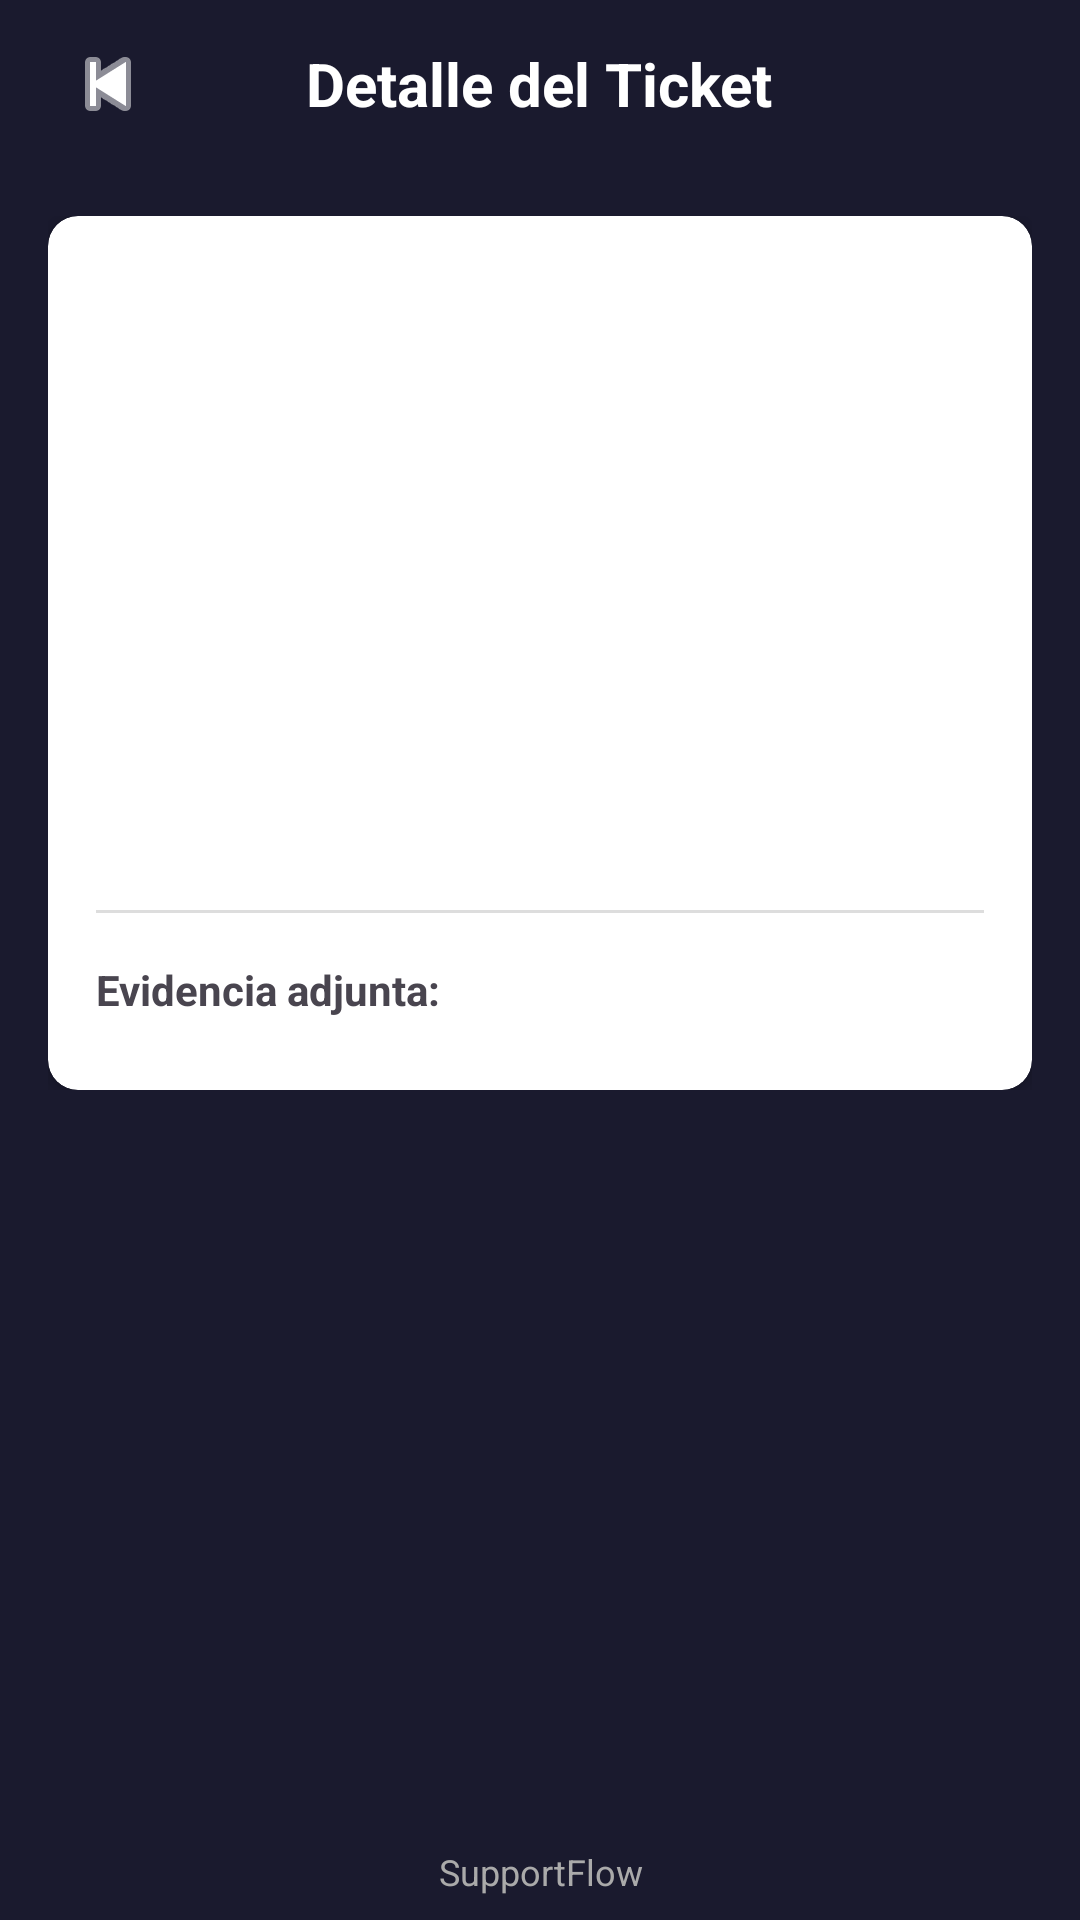

Named icons in this screenshot (1080×1920) and their centers, (x,y):
Regresar: (108,84)
